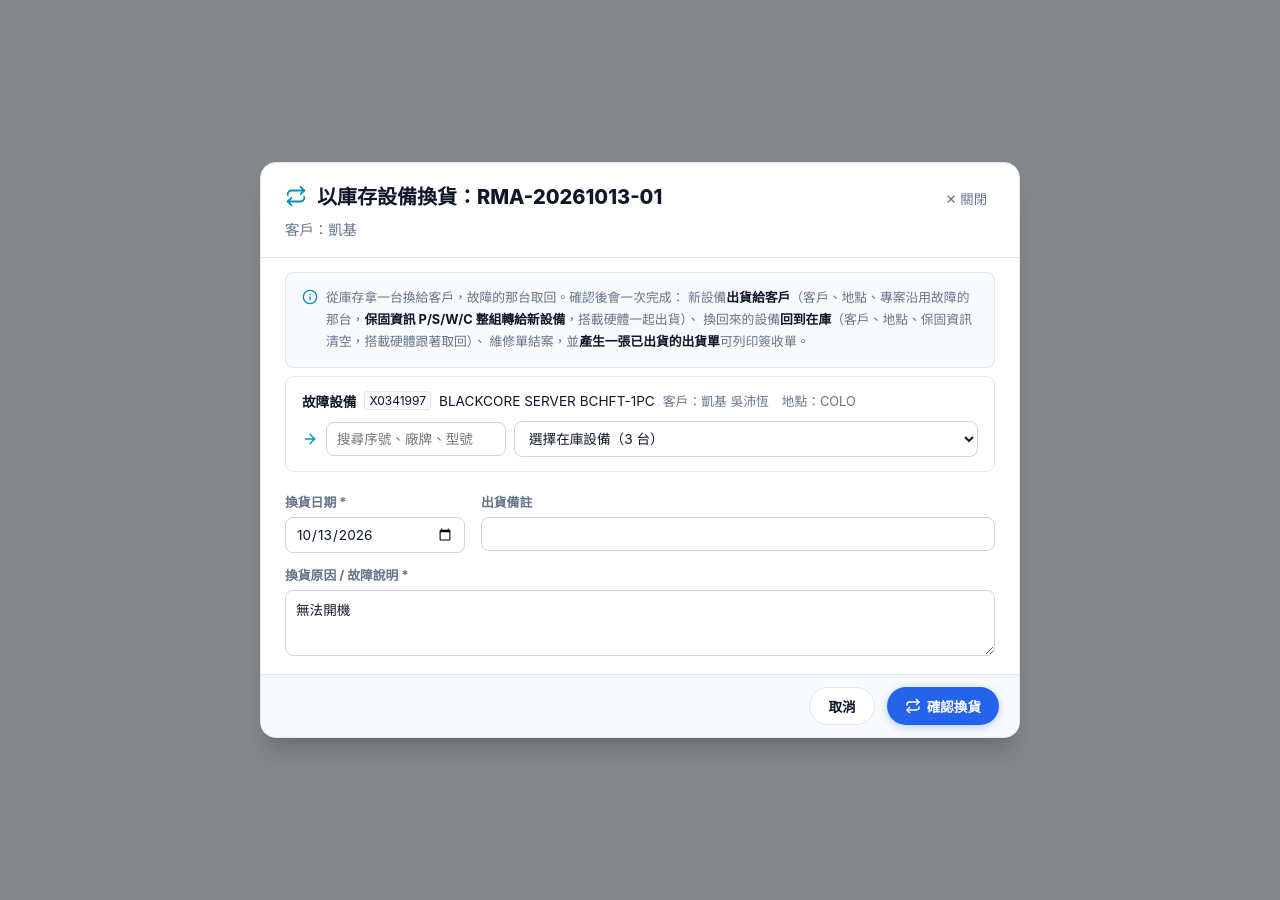
it: 換貨視窗 › 交易失敗時說明已退回
The width and height of the screenshot is (1280, 900).
Select "【同類型】X0346994 — BLACKCORE 3122-RL（搭載 2 件）" in the dropdown named "換給客戶的設備 X0341997": (746, 439) [514,421,978,457]
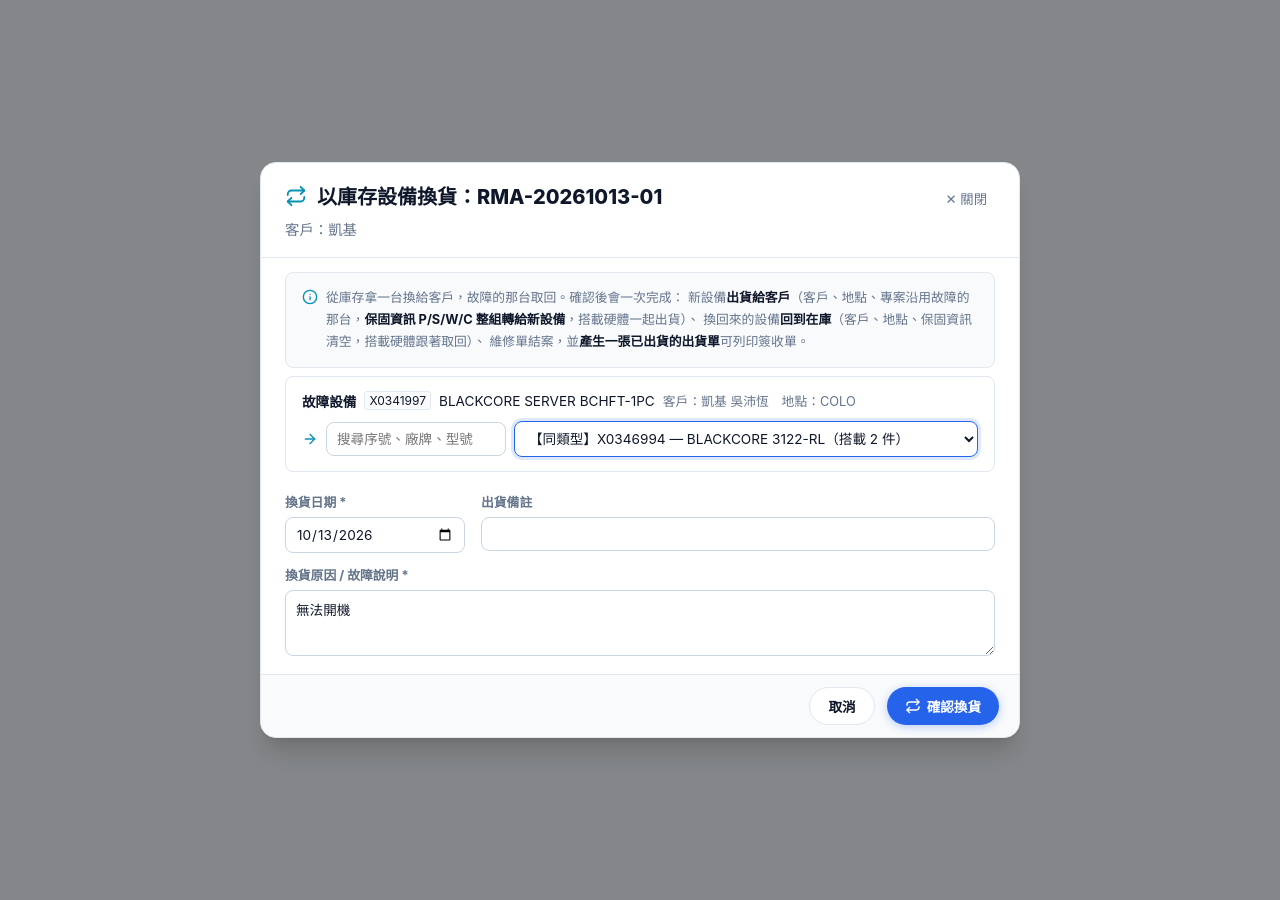
Click the button "確認換貨": (943, 706) [887,687,999,725]
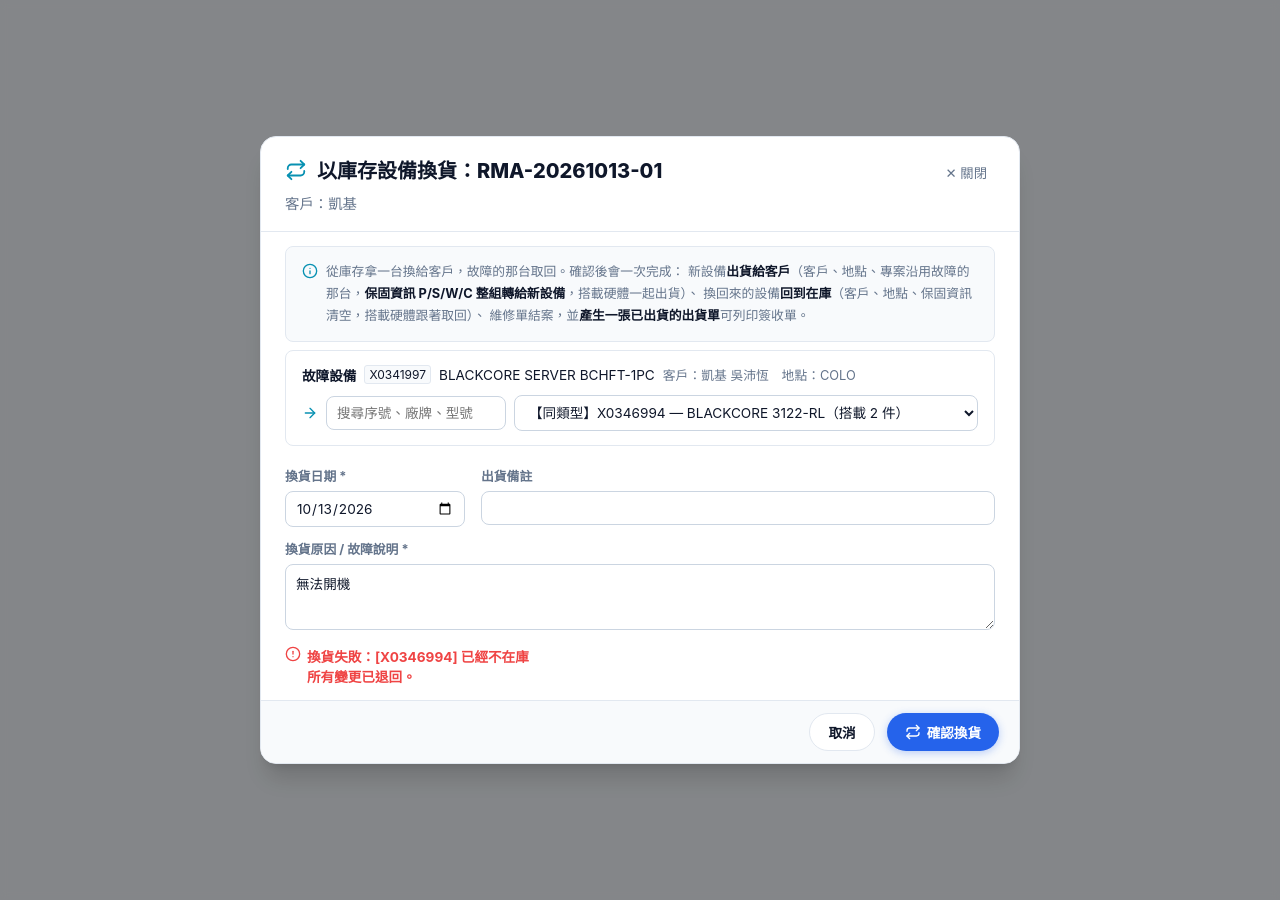
Now the message shows "已經不在庫", box [307,649,529,685]
Now the message shows "所有變更已退回", box [307,649,529,685]
